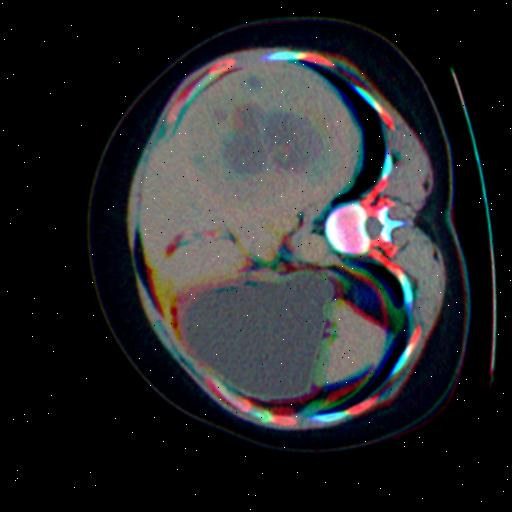Tumor: (219, 105, 313, 176)
